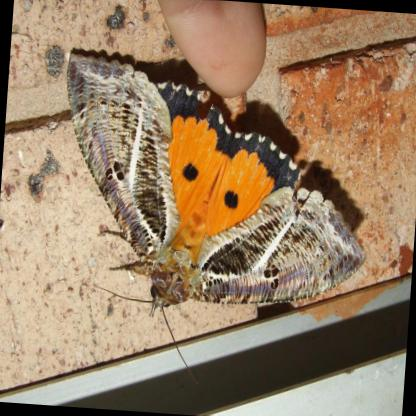fruit sucking moth: (66, 52, 370, 313)
